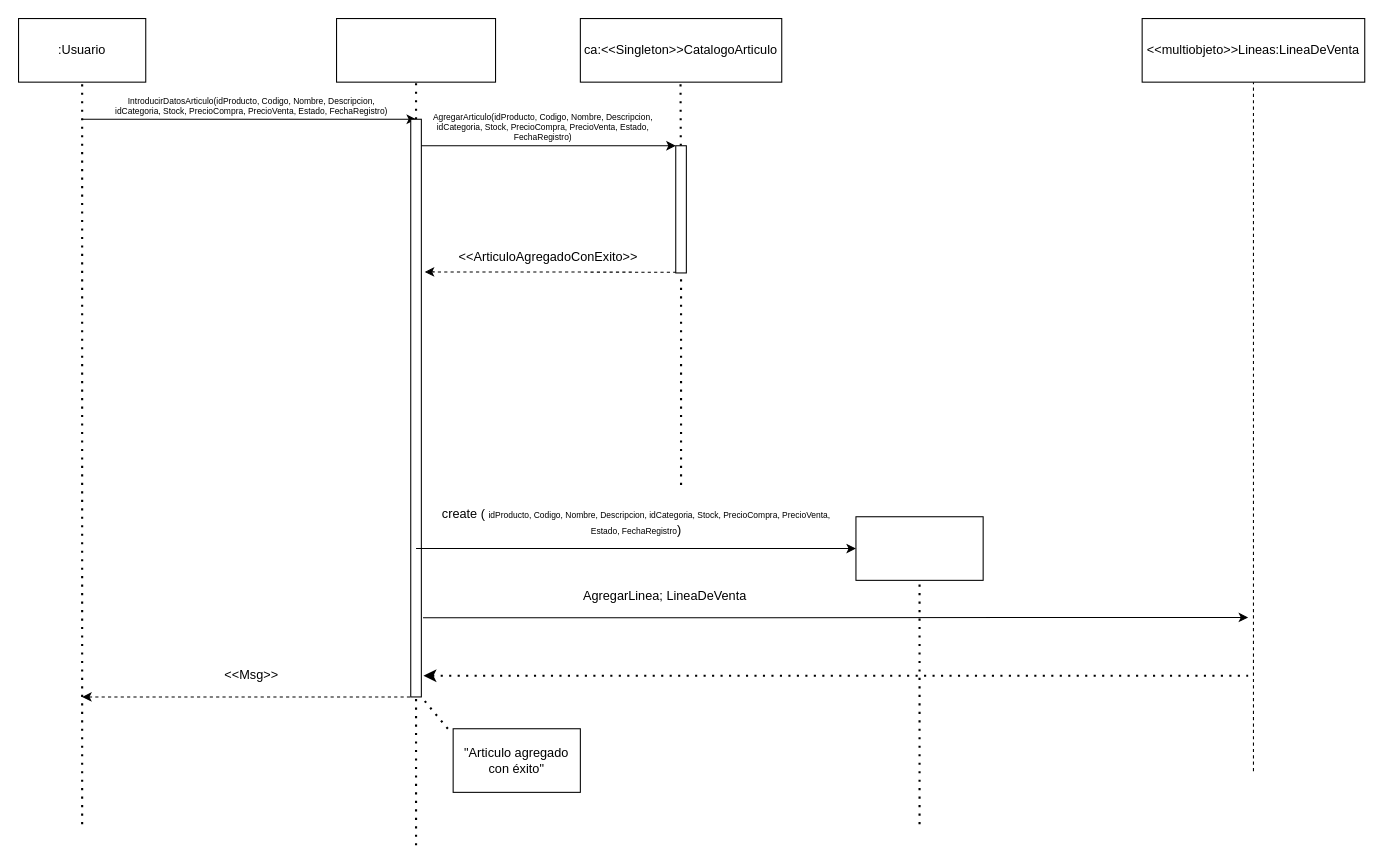
This 1383x866 diagram has some shape labels left out. Each missing label, with the centre of its shape:
"caa:ControlAgregarArticulo" belongs at (x=415, y=49).
"lv:LineaDeVenta" belongs at (x=919, y=548).
